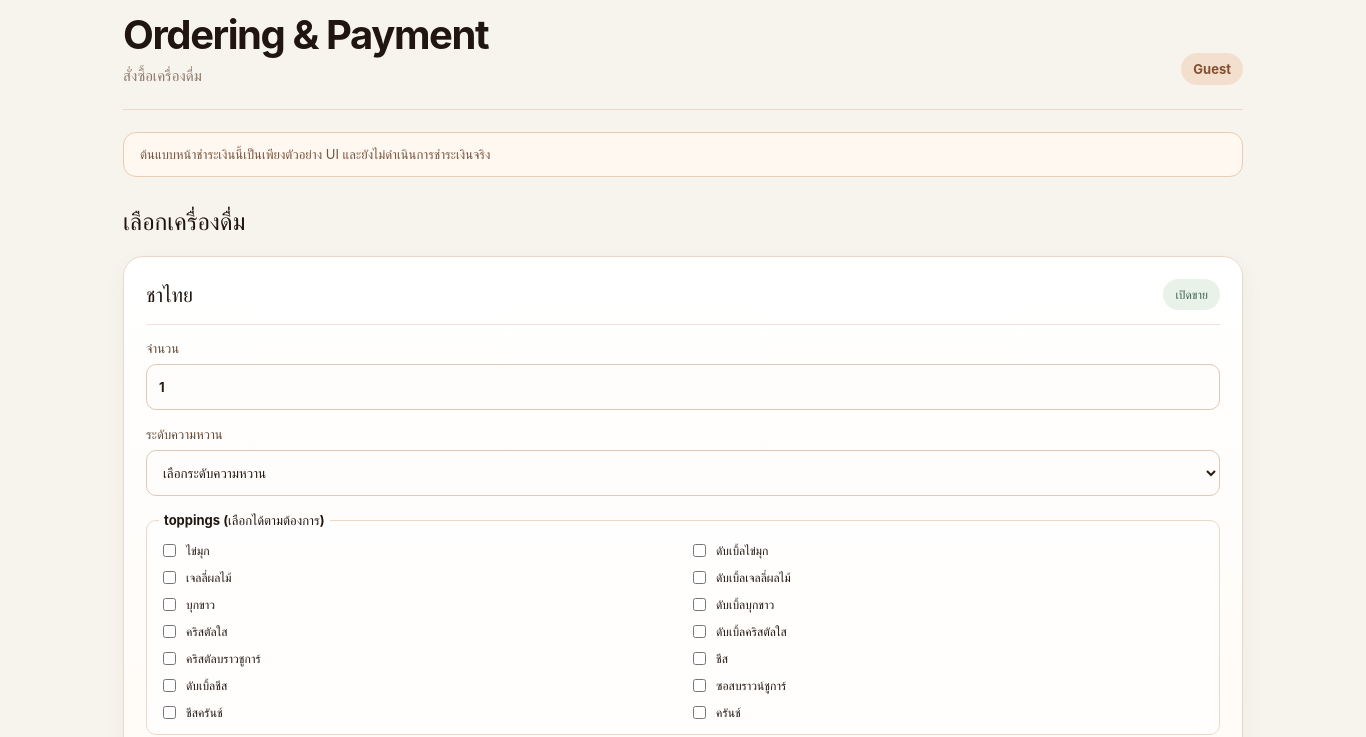
OrderPage › shows only the clicked menu first and reveals all menus when adding another
Expected: the element "ชาเขียว" is not shown
Expected: the element "เมนูหมด" is not shown
Select "หวานปกติ 75%" in the dropdown labelled "ระดับความหวาน" at {"x": 683, "y": 473}, box [146, 450, 1220, 496]
(page scrolled)
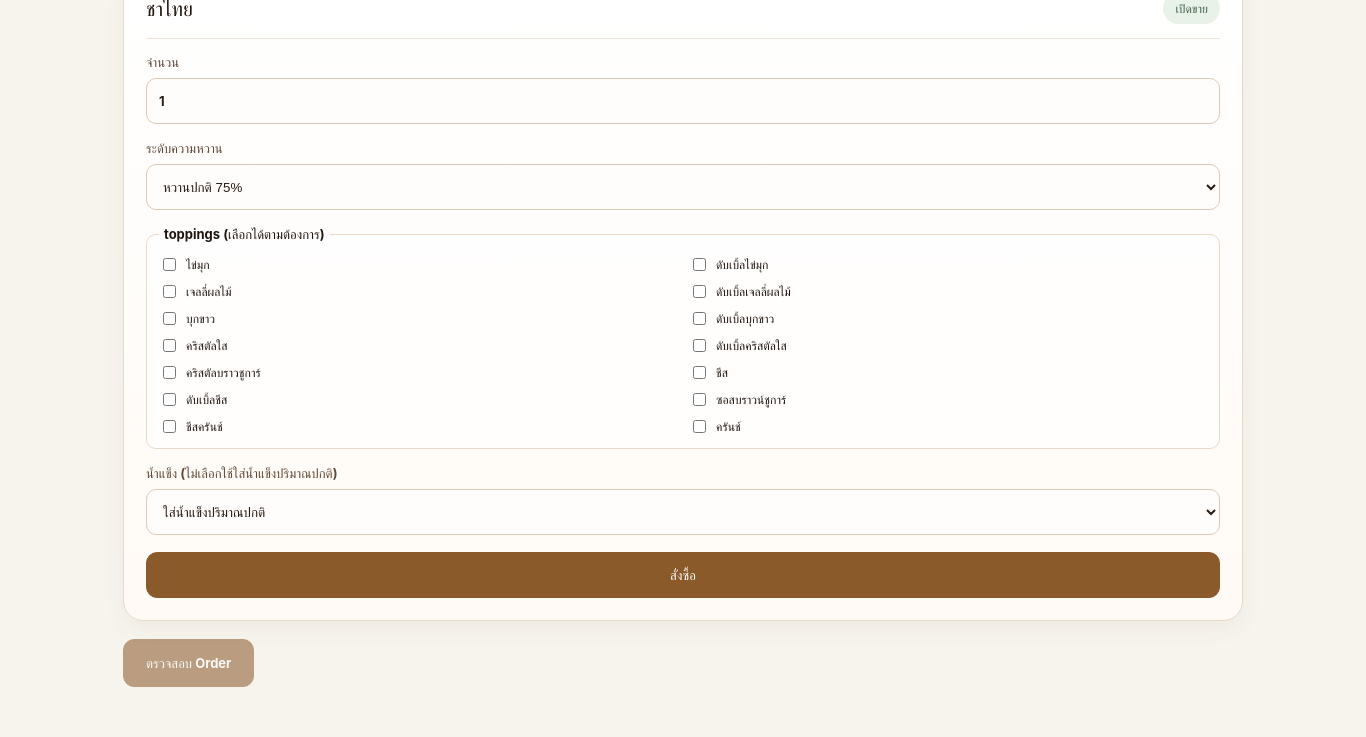
Click the button "สั่งซื้อ".
click(683, 575)  # box [146, 552, 1220, 598]
(page scrolled)
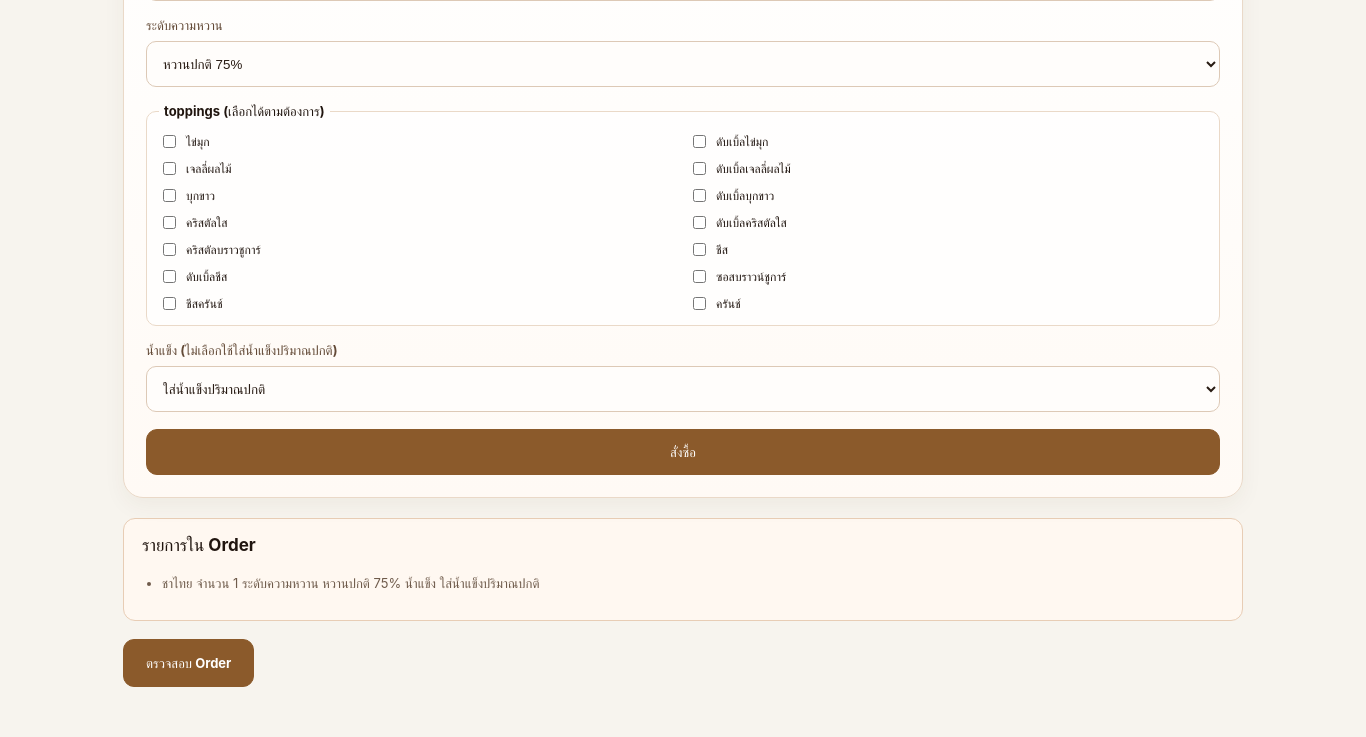
Now the list item "ชาไทย จำนวน 1" is shown, box [162, 575, 540, 591]
Click the button "ตรวจสอบ Order".
click(189, 663)  # box [123, 639, 254, 687]
(page scrolled)
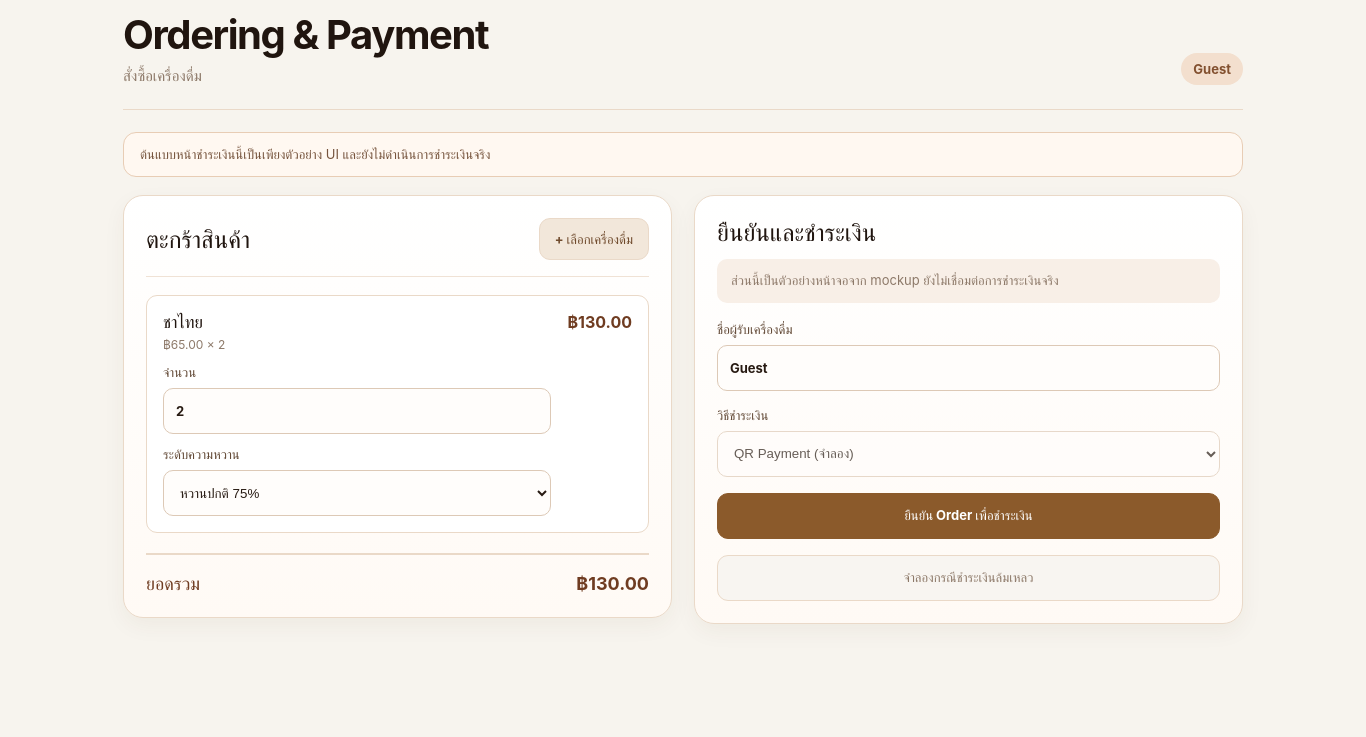
Now the heading "ตะกร้าสินค้า" is shown, box [146, 224, 250, 254]
Click the button "+ เลือกเครื่องดื่ม".
click(594, 239)  # box [539, 218, 649, 260]
(page scrolled)
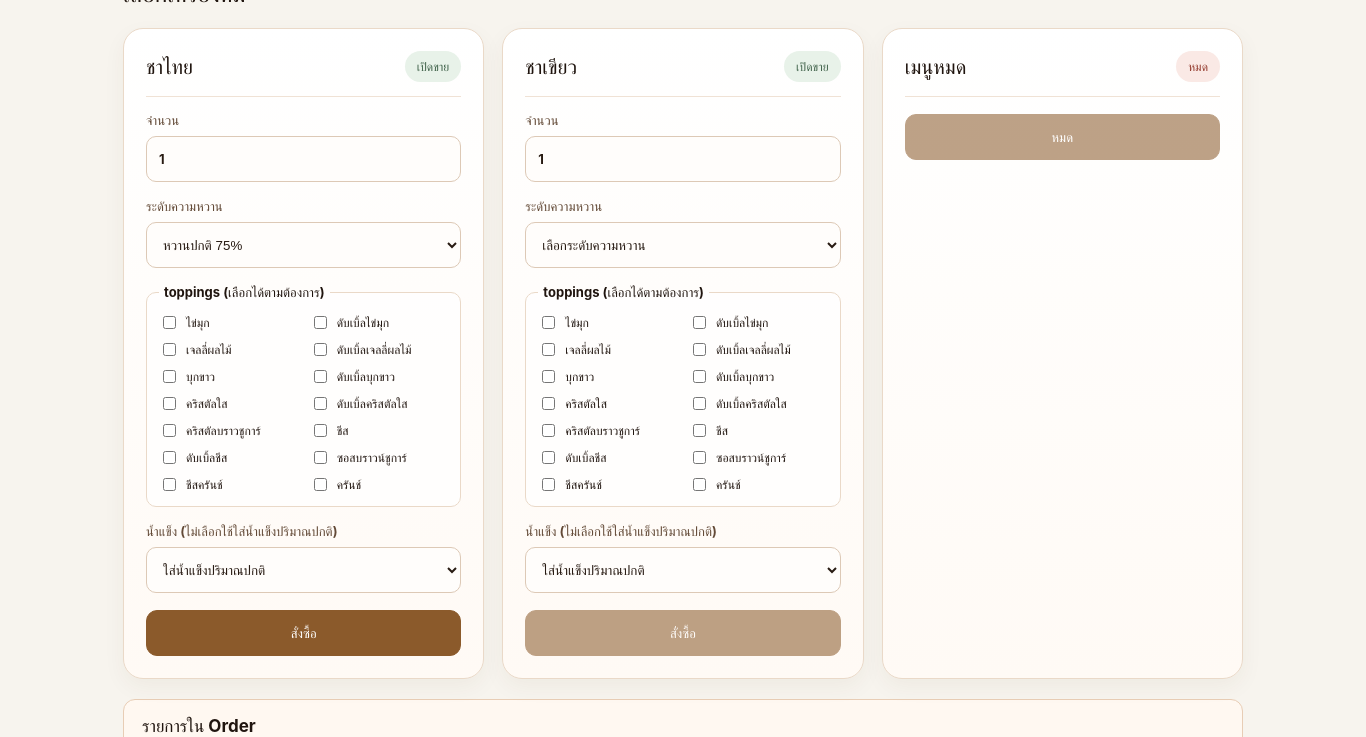
Now the element "ชาเขียว" is shown, box [502, 28, 864, 679]
Now the element "ชาไทย" is shown, box [123, 28, 484, 679]
Now the element "เมนูหมด" is shown, box [882, 28, 1243, 679]
